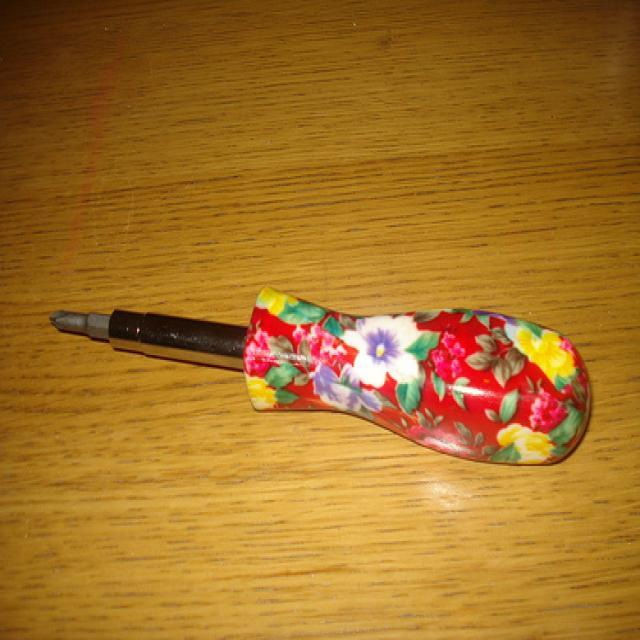screwdriver: (22, 245, 596, 490)
